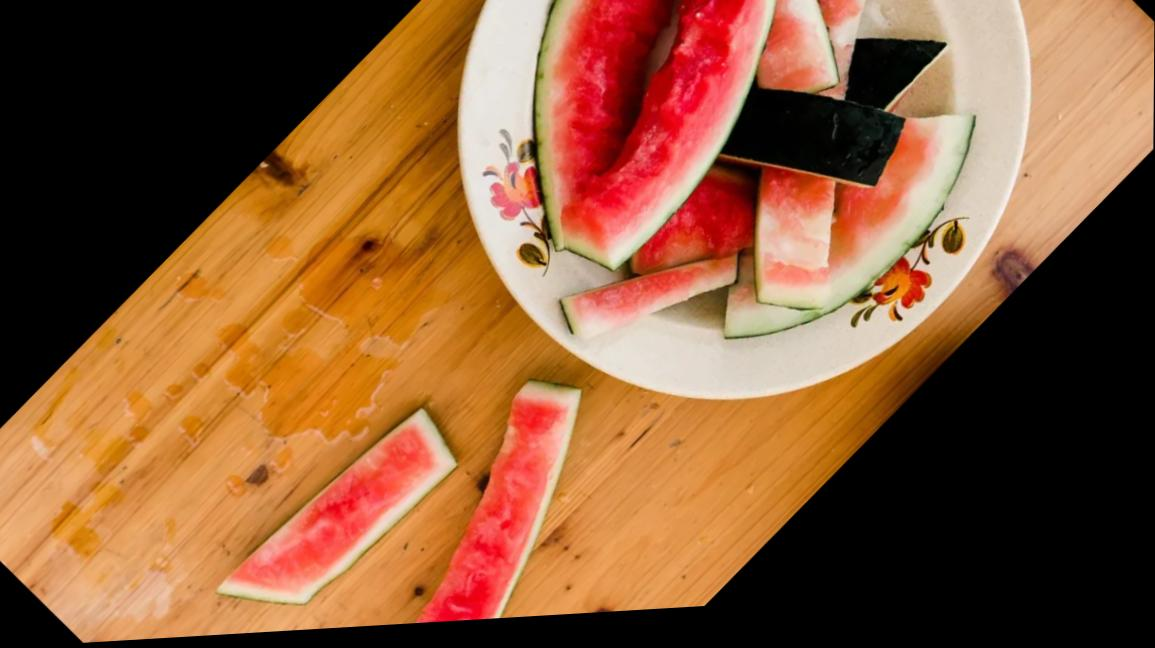organic: (611, 0, 1031, 395), (460, 0, 902, 335), (218, 409, 455, 602), (419, 381, 580, 620)
